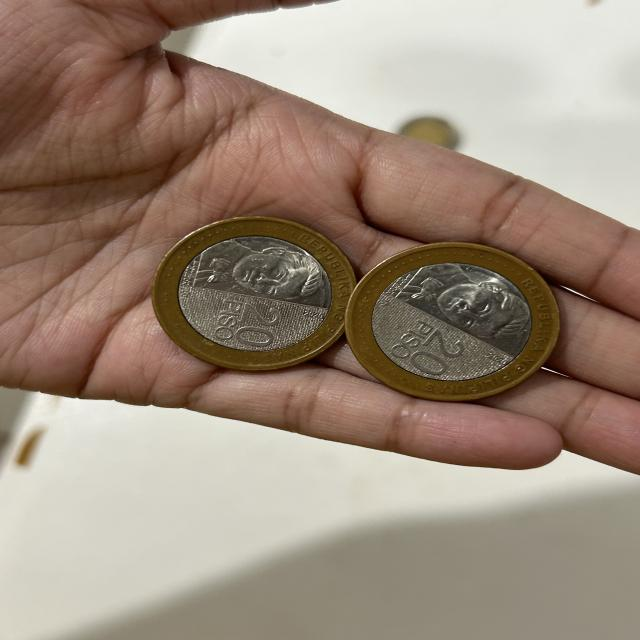20_New_Front: (386, 316, 470, 381), (205, 295, 288, 353)
